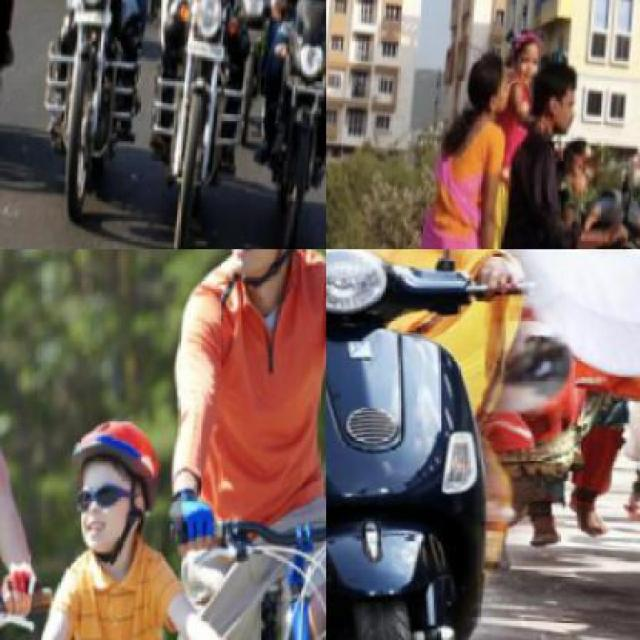With Helmet: (62, 408, 166, 566), (216, 249, 324, 282)
Without Helmet: (528, 43, 586, 137), (469, 49, 513, 114), (506, 24, 543, 74)
